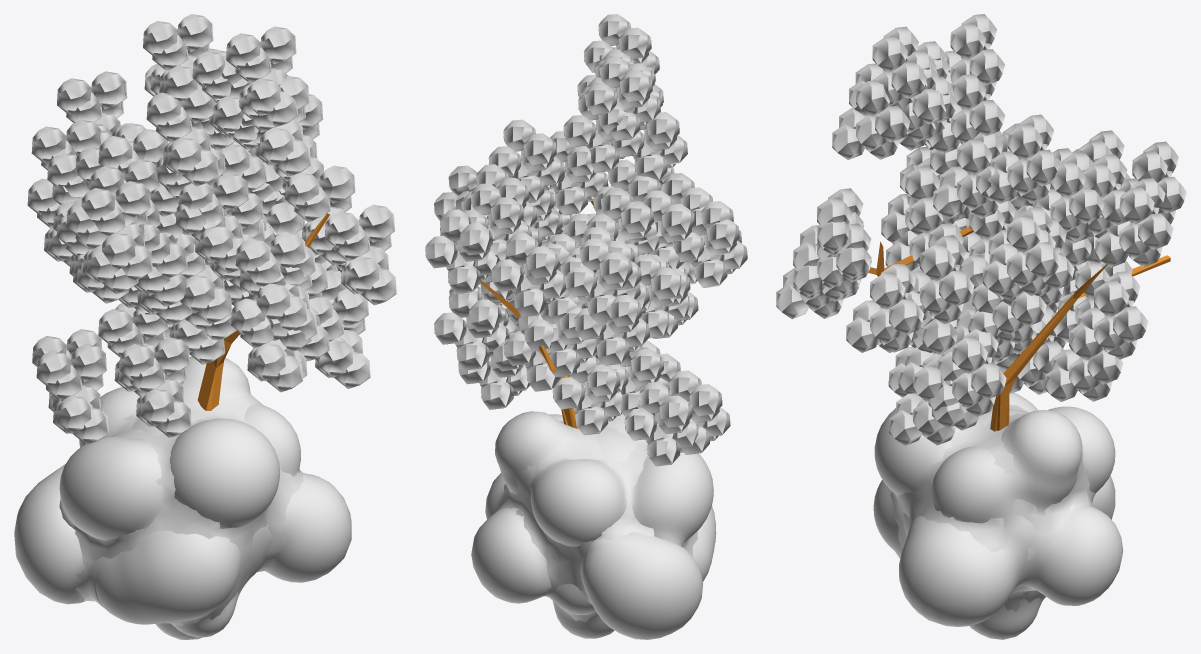
Rendered from tree4.fbx.
The picture shows the model from 3 angles, left to right: view 1: azimuth 30°, elevation 25°; view 2: azimuth 150°, elevation 25°; view 3: azimuth 270°, elevation 25°; orthographic projection. The views are drawn at different scales.
Visible parts, largest first — view 1: feuillage.001, particule, custom normals, Vert; view 2: feuillage.001, particule, custom normals, Vert; view 3: feuillage.001, particule, custom normals, Vert.
Boxes of the visible parts, bbox=[...] form: feuillage.001: bbox=[27, 14, 396, 444]; particule: bbox=[14, 356, 351, 639]; custom normals: bbox=[73, 393, 303, 625]; Vert: bbox=[197, 213, 329, 410]; feuillage.001: bbox=[425, 14, 747, 466]; particule: bbox=[471, 411, 716, 639]; custom normals: bbox=[495, 421, 697, 621]; Vert: bbox=[480, 200, 593, 428]; feuillage.001: bbox=[776, 14, 1186, 445]; particule: bbox=[873, 392, 1123, 639]; custom normals: bbox=[890, 404, 1095, 611]; Vert: bbox=[868, 226, 1170, 431].
Bounding box in the file's own units: 621 × 1232 × 748.
